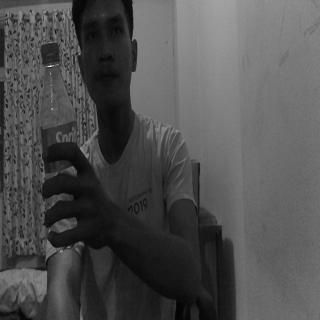plastic_bottles: (40, 39, 78, 250)
